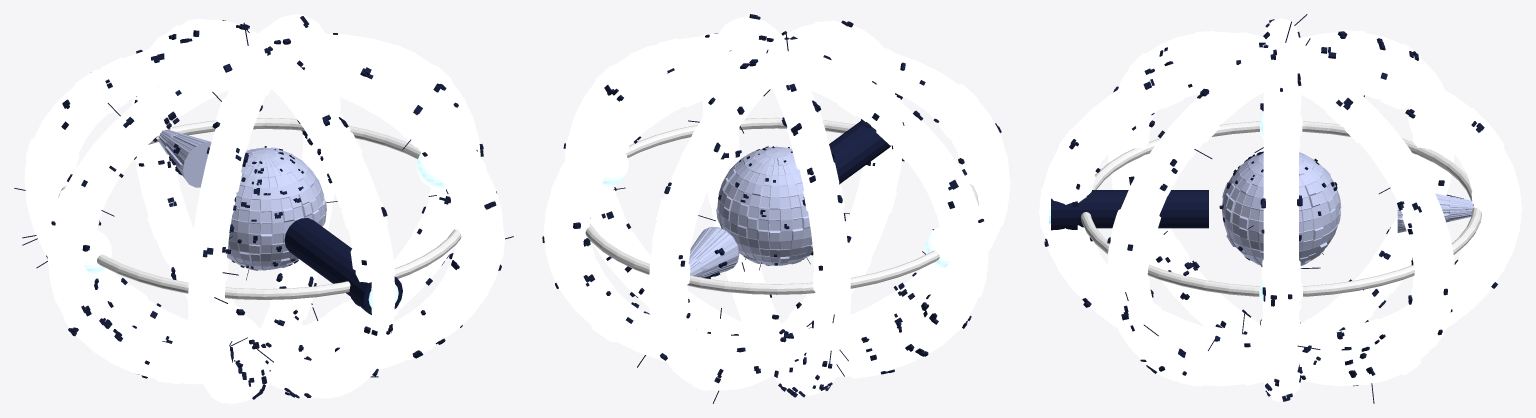
File: velari_huge.glb
The picture shows the model from 3 angles, left to right: view 1: azimuth 30°, elevation 25°; view 2: azimuth 150°, elevation 25°; view 3: azimuth 270°, elevation 25°; orthographic projection. The views are drawn at different scales.
Visible parts, largest first — view 1: velari_huge; view 2: velari_huge; view 3: velari_huge.
Part boxes in pixels (box(x1,y1,x2,y2)): velari_huge: box(14, 14, 513, 403); velari_huge: box(542, 14, 1010, 403); velari_huge: box(1039, 14, 1521, 403).
Size of the model in its own units: 10.01 by 7.9 by 10.03.
